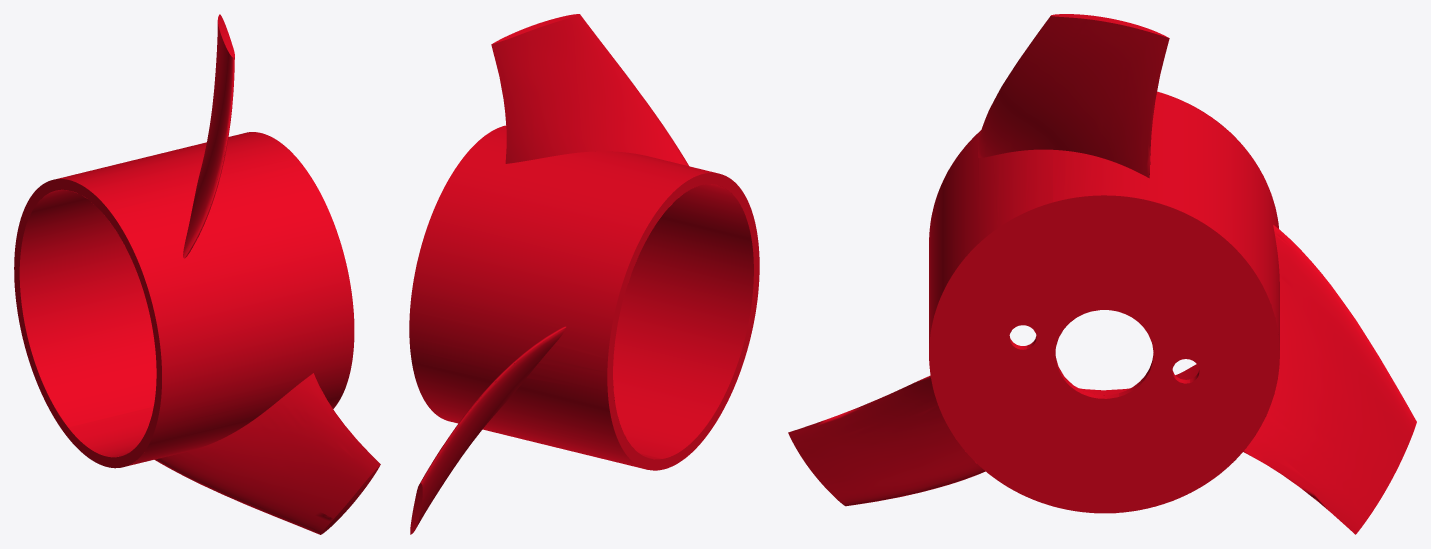
The model's file is vert_red_propcw.dae.
3 views of the same model, side by side, from view 1: azimuth 30°, elevation 25°; view 2: azimuth 150°, elevation 25°; view 3: azimuth 270°, elevation 25° (orthographic). The views are drawn at different scales.
Parts seen in each view (by area): view 1: PropCW; view 2: PropCW; view 3: PropCW.
Part boxes in pixels (bbox=[...]): PropCW: bbox=[14, 14, 380, 534]; PropCW: bbox=[409, 14, 759, 534]; PropCW: bbox=[788, 14, 1416, 534].
Size of the model in its own units: 0.03 by 0.0717 by 0.0632.
